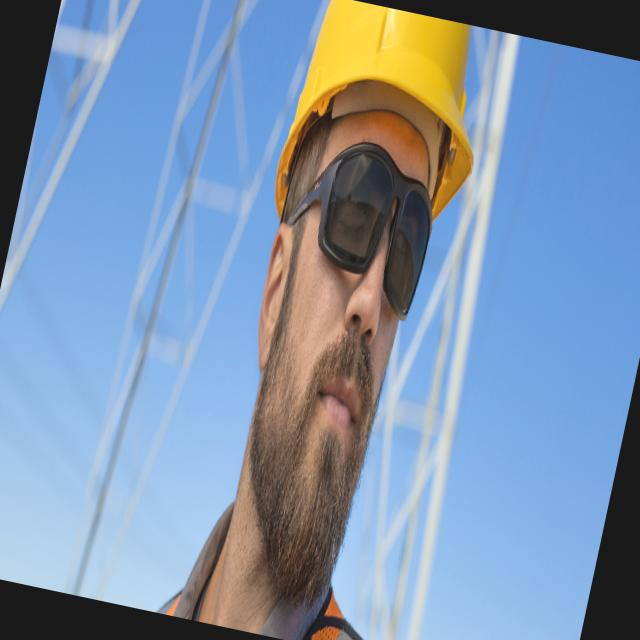goggles: (269, 122, 448, 331)
helmet: (262, 0, 505, 267)
